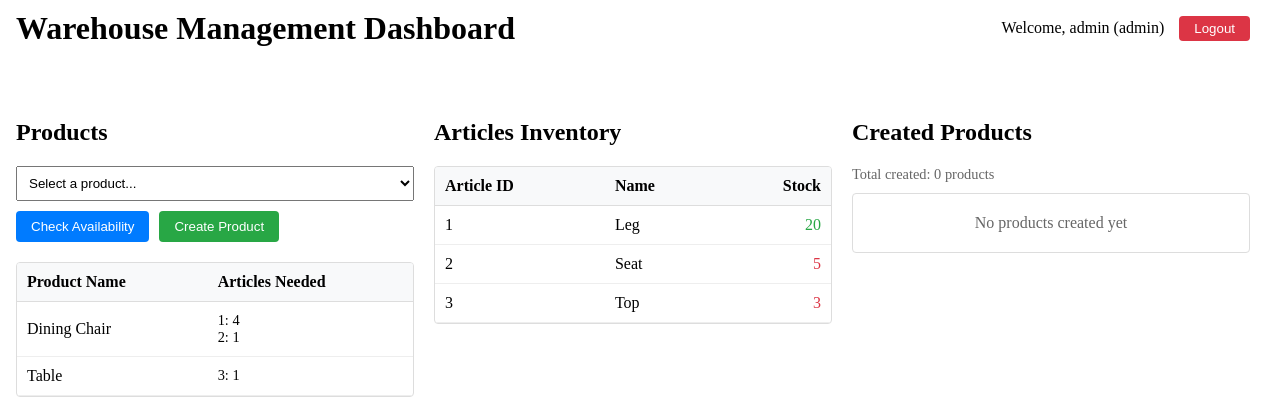
Dashboard Component › creates product successfully and saves it into localStorage
This screenshot has width=1267, height=414.
Step 1. Select "Dining Chair" in the dropdown → (215, 183), box [16, 166, 414, 201]
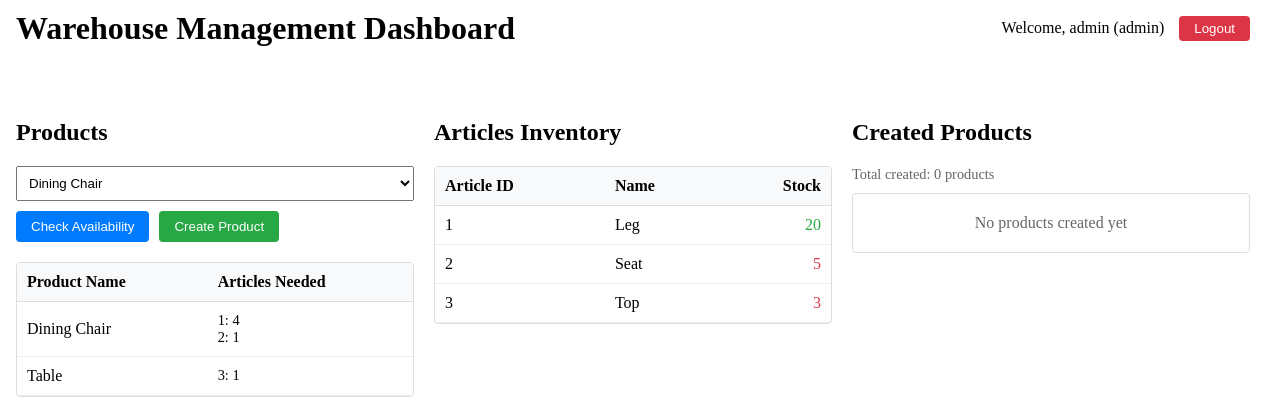
Step 2. Click the button "Create Product" → (219, 226), box [160, 211, 279, 242]
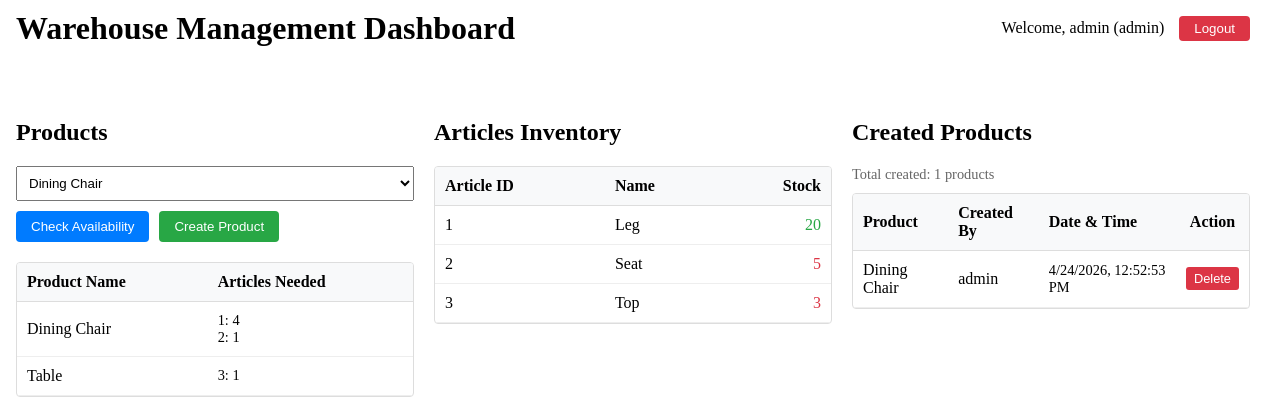
expect the cell "admin" is shown: met, box [948, 250, 1039, 307]
